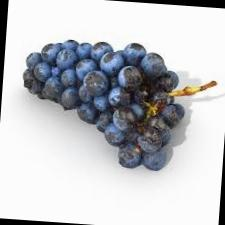Grape Rotten: (16, 34, 218, 174)
